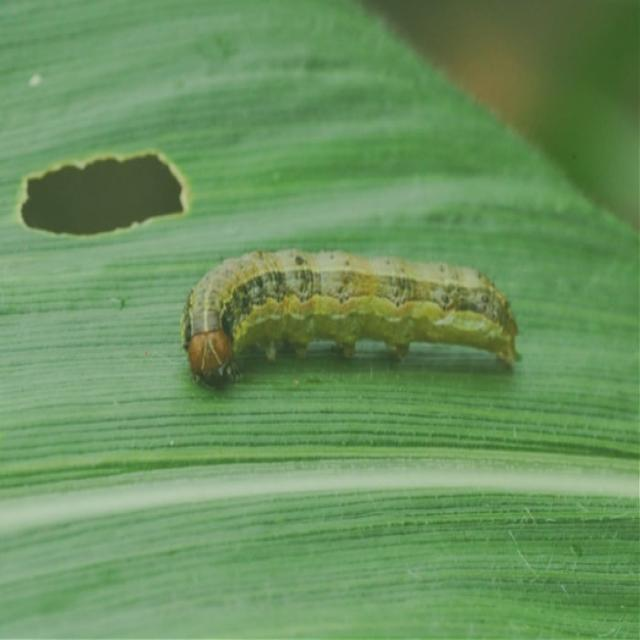armyworm: (179, 246, 521, 390)
